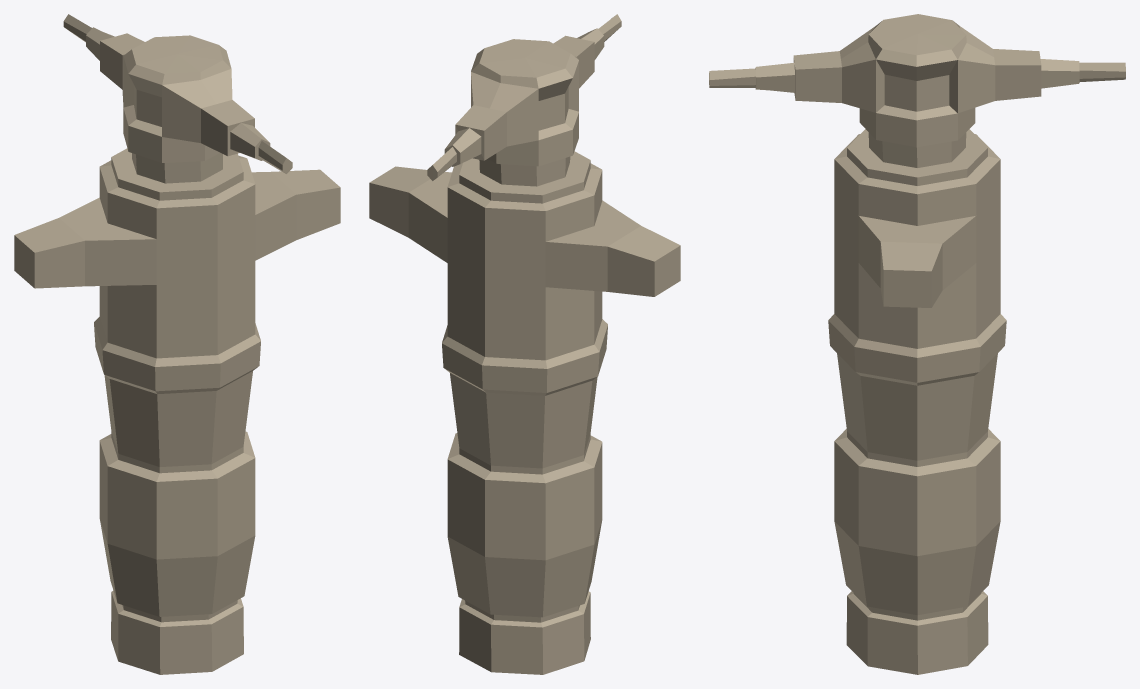
The model's file is a_z3_woodenStatue_l.fbx.
3 views of the same model, side by side, from view 1: azimuth 30°, elevation 25°; view 2: azimuth 150°, elevation 25°; view 3: azimuth 270°, elevation 25° (orthographic). The views are drawn at different scales.
Parts seen in each view (by area): view 1: a_z3_woodenStatue_l; view 2: a_z3_woodenStatue_l; view 3: a_z3_woodenStatue_l.
Boxes of the visible parts, left/top/right/bottom form: a_z3_woodenStatue_l: left=14, top=14, right=340, bottom=674; a_z3_woodenStatue_l: left=369, top=14, right=680, bottom=674; a_z3_woodenStatue_l: left=709, top=14, right=1125, bottom=674.
Bounding box in the file's own units: 174 × 329 × 203.
